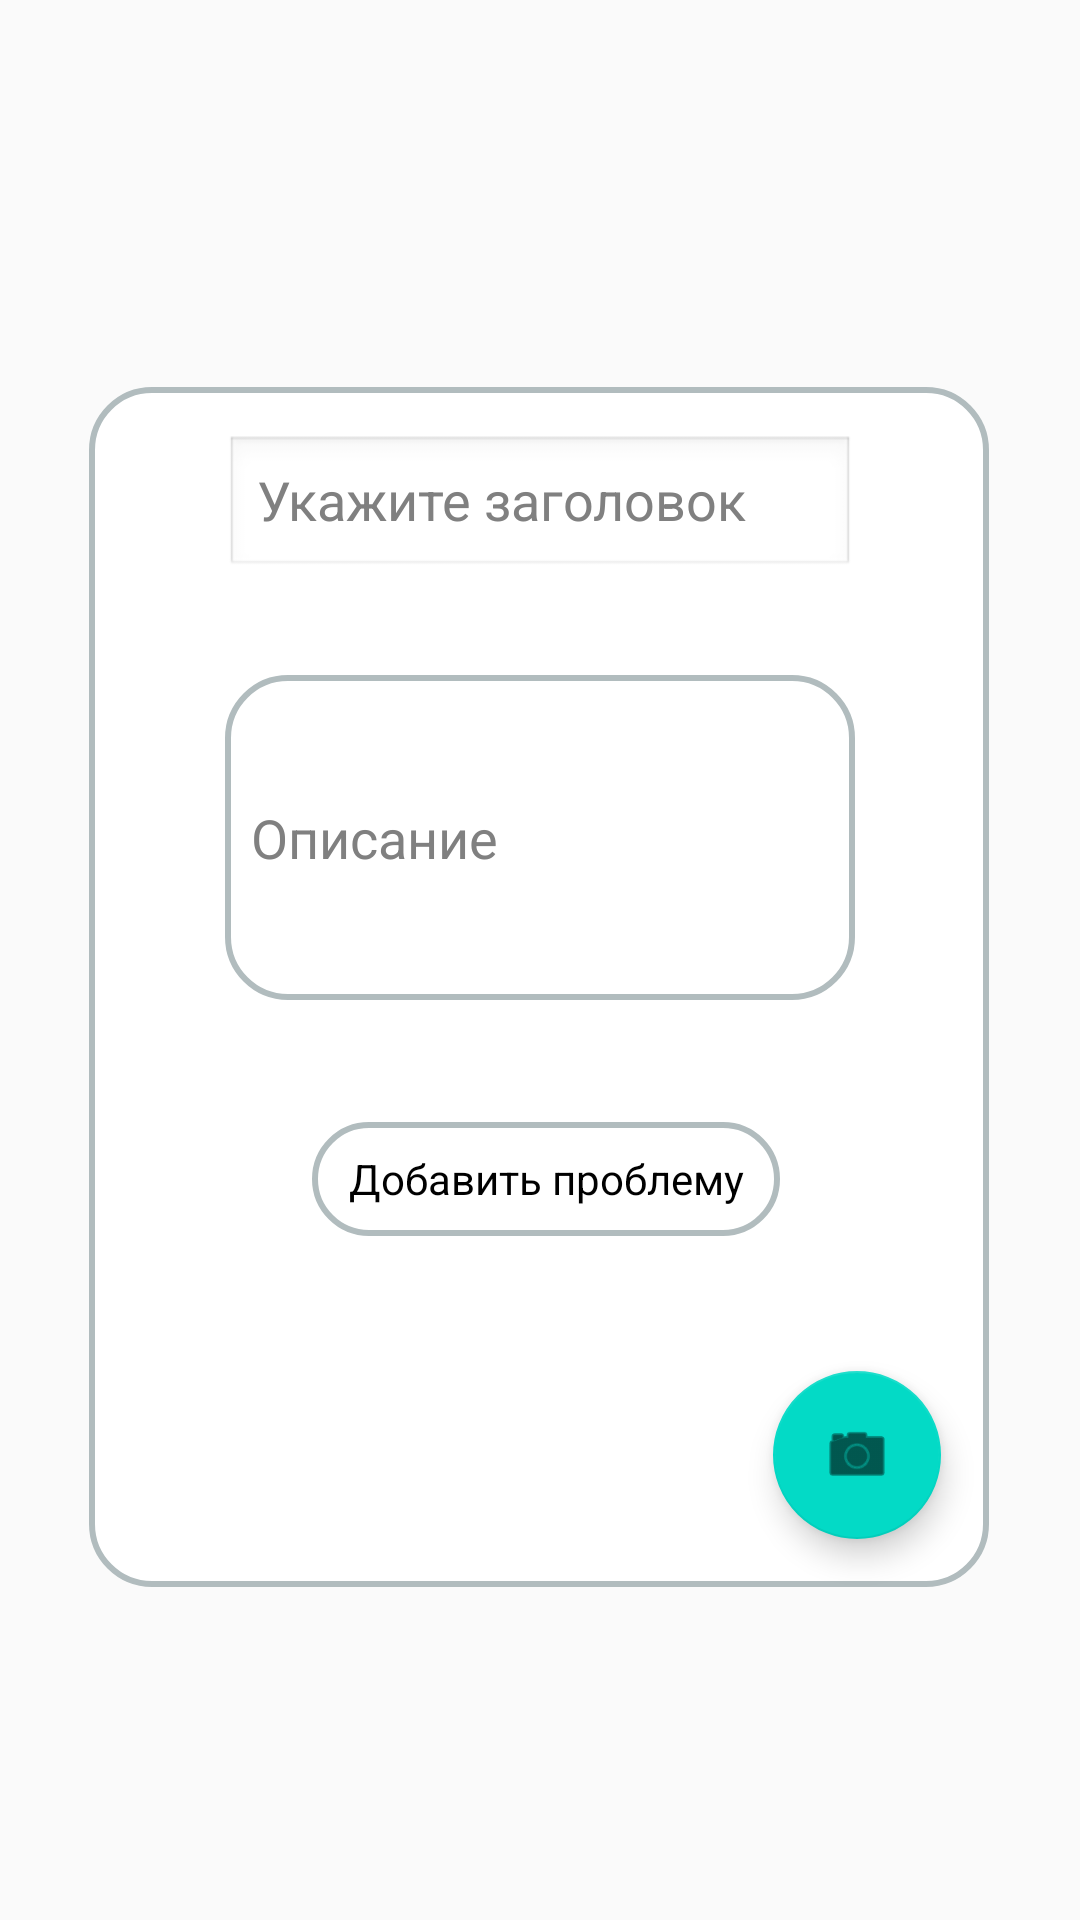

Where to tap for icons on this 1080x1920 app screen, as point (x, y):
camera: point (857, 1455)
